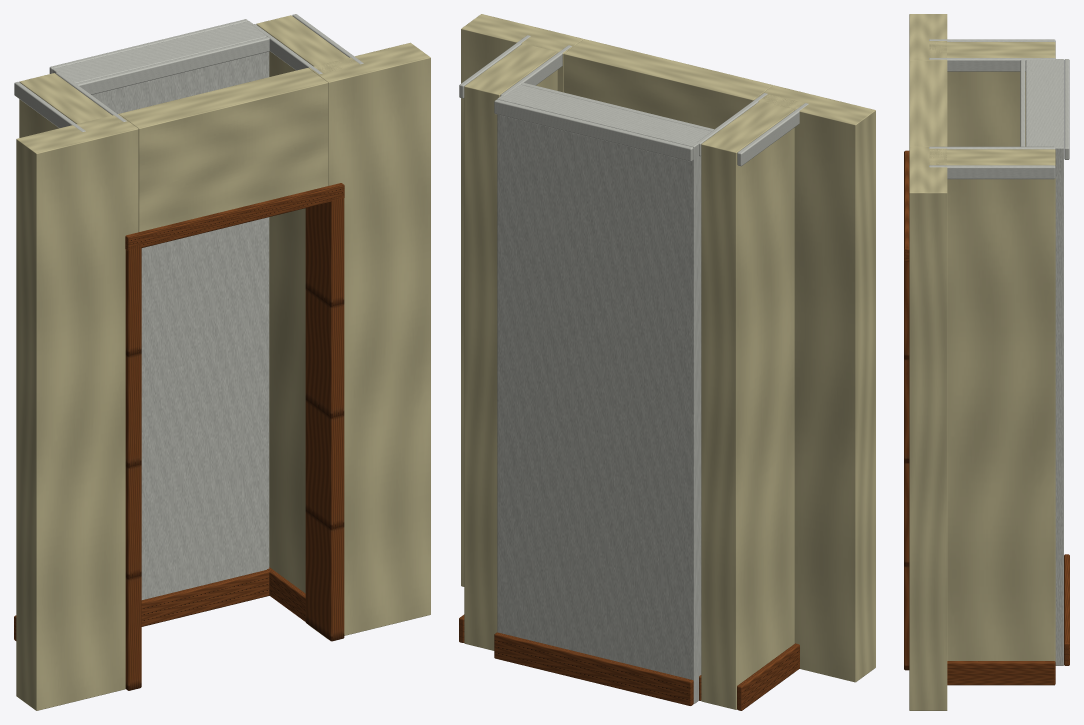
File: three-d-liminal-spaces-kit-liminal-spaces-kit-dead-end-niche-c39cabd0.glb
The picture shows the model from 3 angles, left to right: view 1: azimuth 30°, elevation 25°; view 2: azimuth 150°, elevation 25°; view 3: azimuth 270°, elevation 25°; orthographic projection. The views are drawn at different scales.
Parts seen in each view (by area): view 1: dead-end-niche; view 2: dead-end-niche; view 3: dead-end-niche.
Part boxes in pixels (x1=…): dead-end-niche: x1=14, y1=14, x2=430, y2=710; dead-end-niche: x1=459, y1=14, x2=875, y2=710; dead-end-niche: x1=904, y1=14, x2=1069, y2=710.
Bounding box in the file's own units: 2 × 2.7 × 0.783.
Materials: 3 (3 with a texture image).
